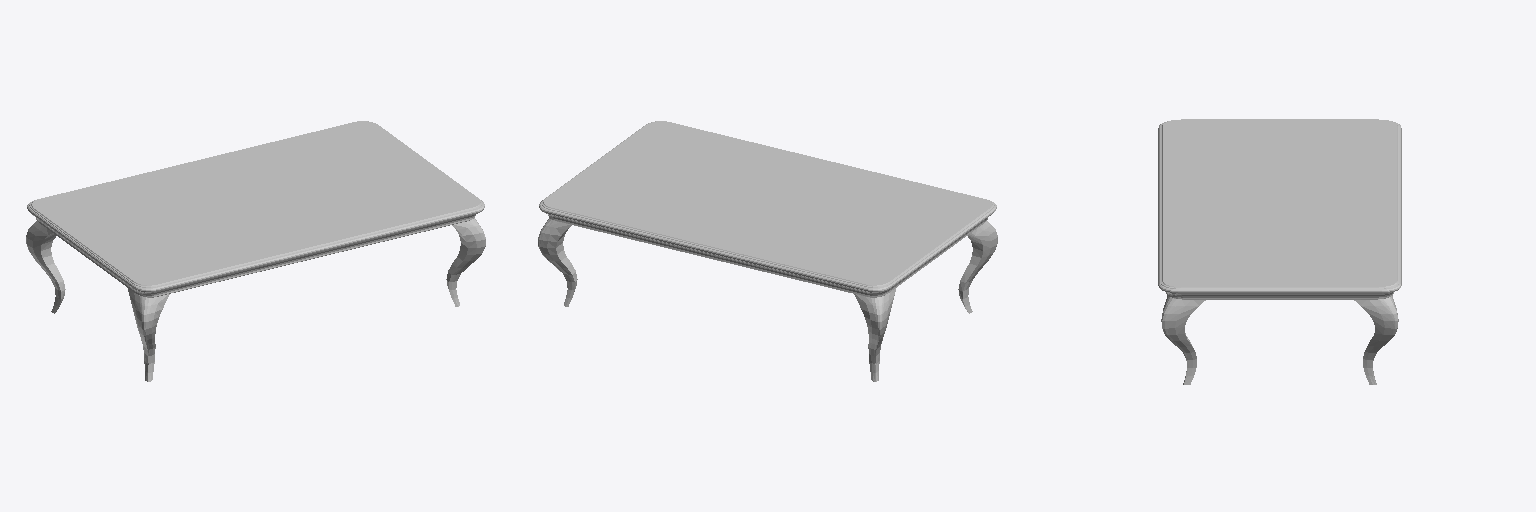
Rendered from coffeetable4.obj.
The picture shows the model from 3 angles: view 1: azimuth 30°, elevation 25°; view 2: azimuth 150°, elevation 25°; view 3: azimuth 270°, elevation 25°; orthographic projection.
Parts seen in each view (by area): view 1: coffetable; view 2: coffetable; view 3: coffetable.
Boxes of the visible parts, box(x1,y1,x2,y2) form: coffetable: box(26, 121, 485, 381); coffetable: box(538, 121, 997, 381); coffetable: box(1158, 119, 1401, 384).
Size of the model in its own units: 13.03 by 3.76 by 7.85.